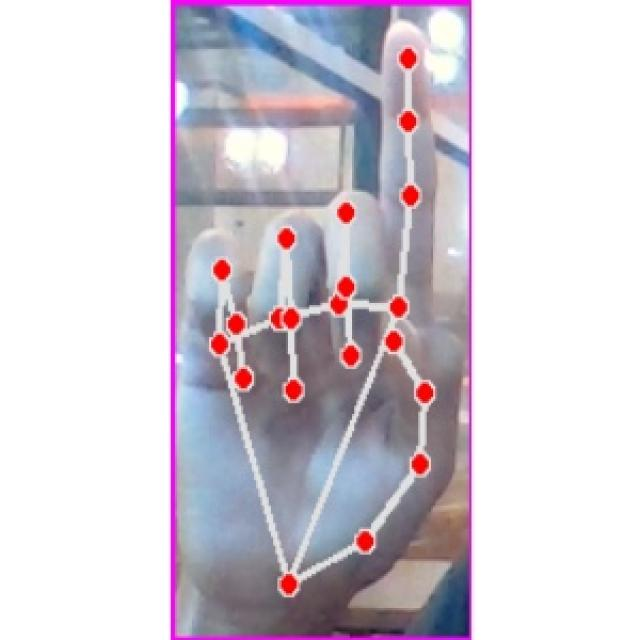D: (187, 18, 464, 604)
